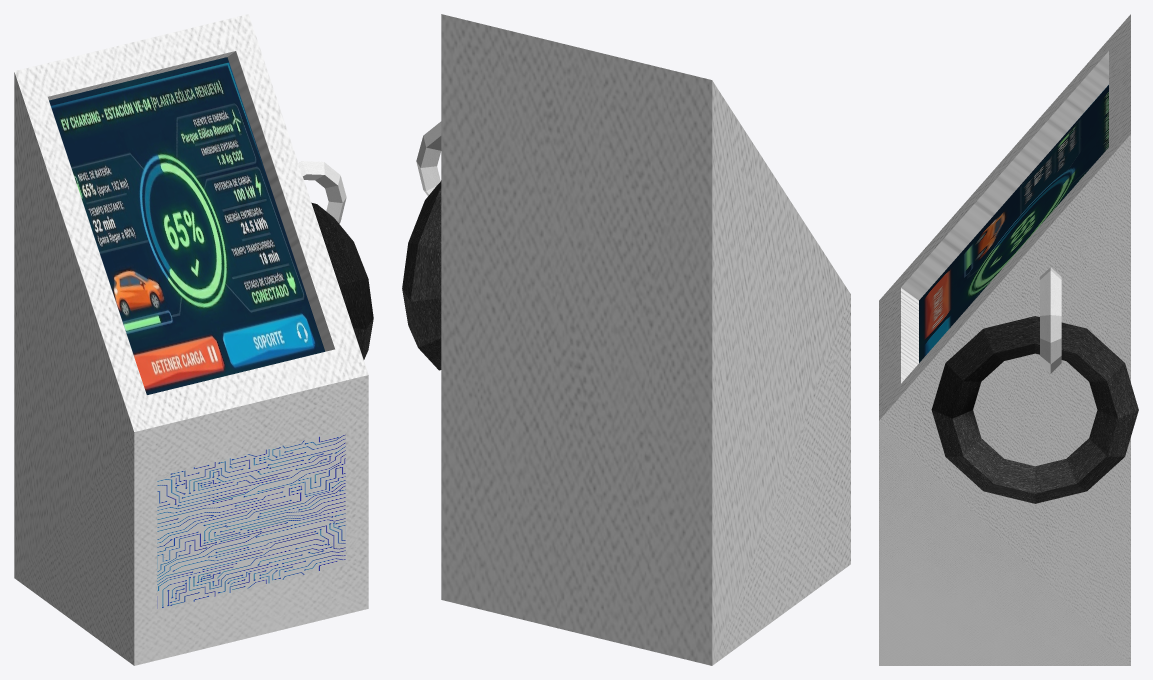
Rendered from estacionCarga.fbx.
The picture shows the model from 3 angles, left to right: view 1: azimuth 30°, elevation 25°; view 2: azimuth 150°, elevation 25°; view 3: azimuth 270°, elevation 25°; orthographic projection. The views are drawn at different scales.
Visible parts, largest first — view 1: Cube; view 2: Cube; view 3: Cube.
Part boxes in pixels (x1=…): Cube: x1=14, y1=14, x2=373, y2=665; Cube: x1=402, y1=14, x2=850, y2=665; Cube: x1=879, y1=14, x2=1138, y2=665.
Size of the model in its own units: 140 by 230 by 102.
Materials: 4 (4 with a texture image).
